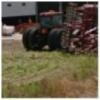tractors: (22, 12, 76, 52)
